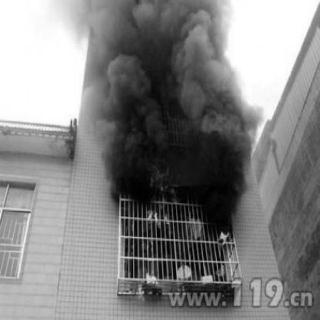Fire: (140, 166, 178, 228), (121, 267, 155, 300), (214, 226, 231, 242)
